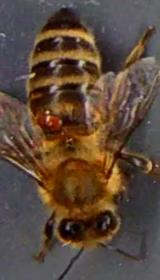varroa_mite: (39, 110, 70, 128)
